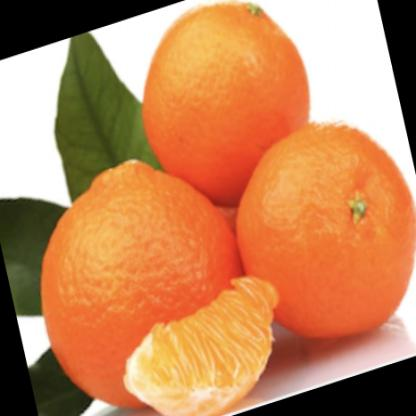orange: (38, 156, 236, 367), (238, 122, 416, 340), (147, 4, 310, 194)
